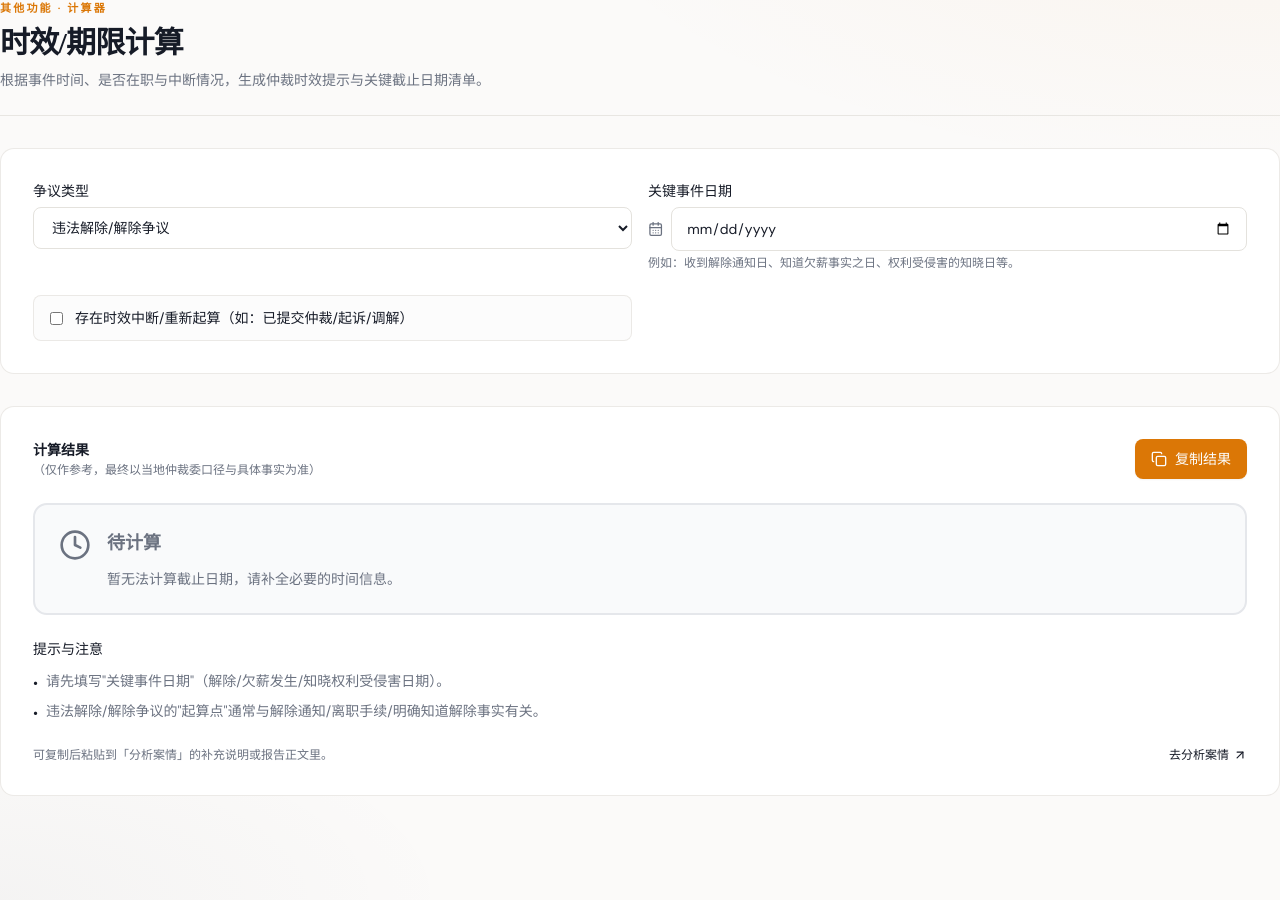
Test: LimitationCalculator › handles interruption date correctly
Type "2024-01-01" into the date field at (959, 229), box [671,207,1247,251]
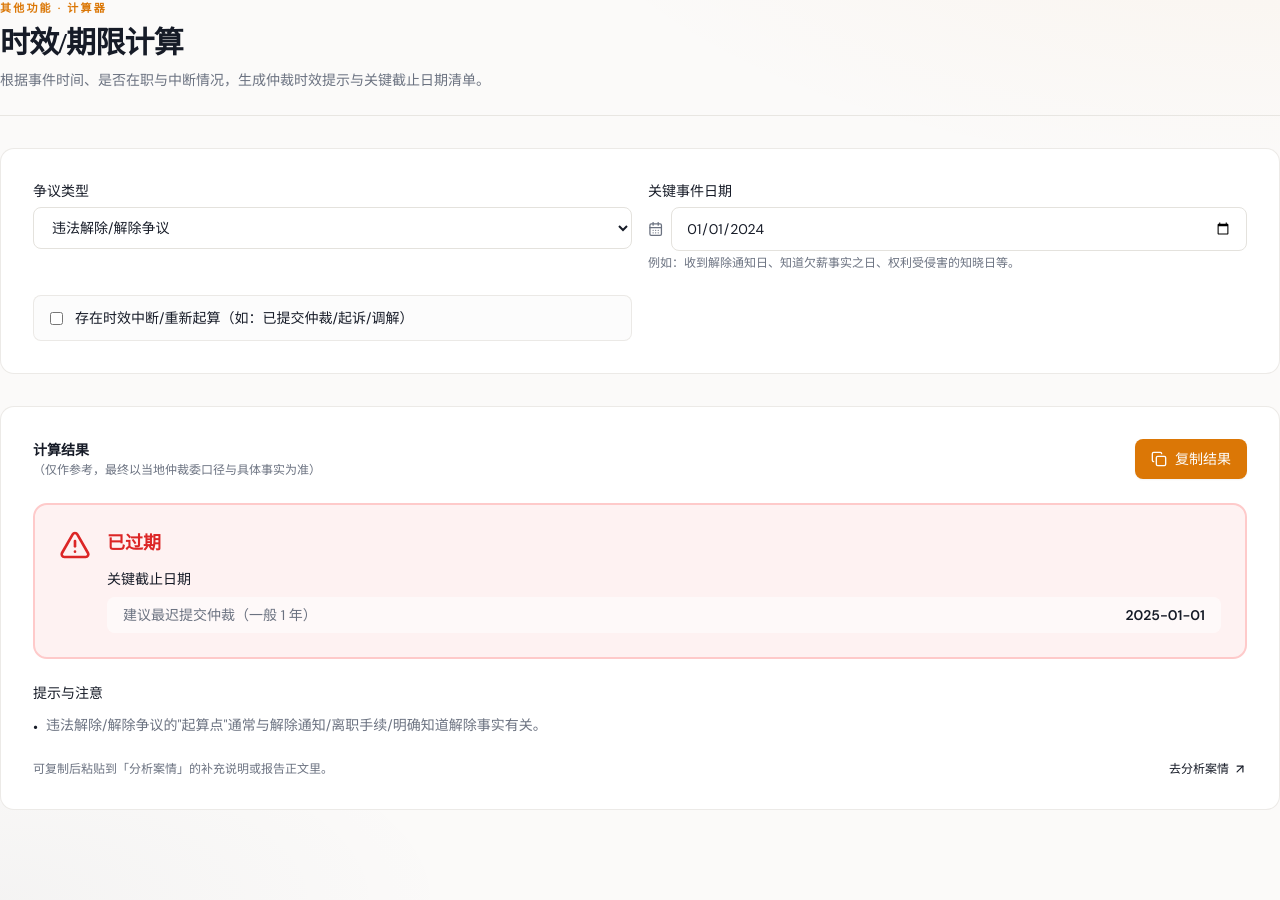
Click the checkbox labelled "存在时效中断/重新起算（如：已提交仲裁/起诉/调解）" at (56, 318), box [50,312,63,325]
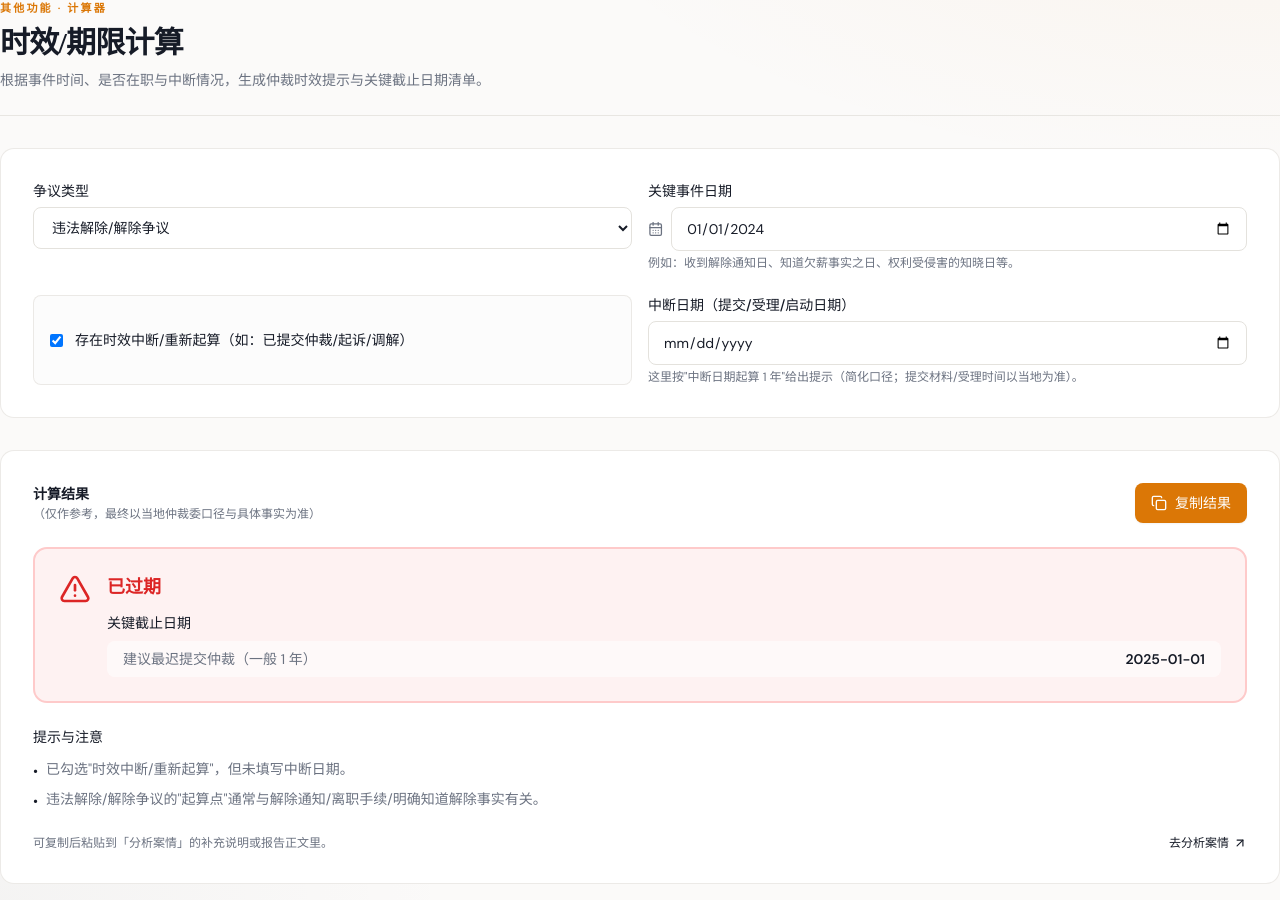
Type "2024-06-01" into the date field below "中断日期（提交/受理/启动日期）" at (948, 343), box [648,321,1247,365]
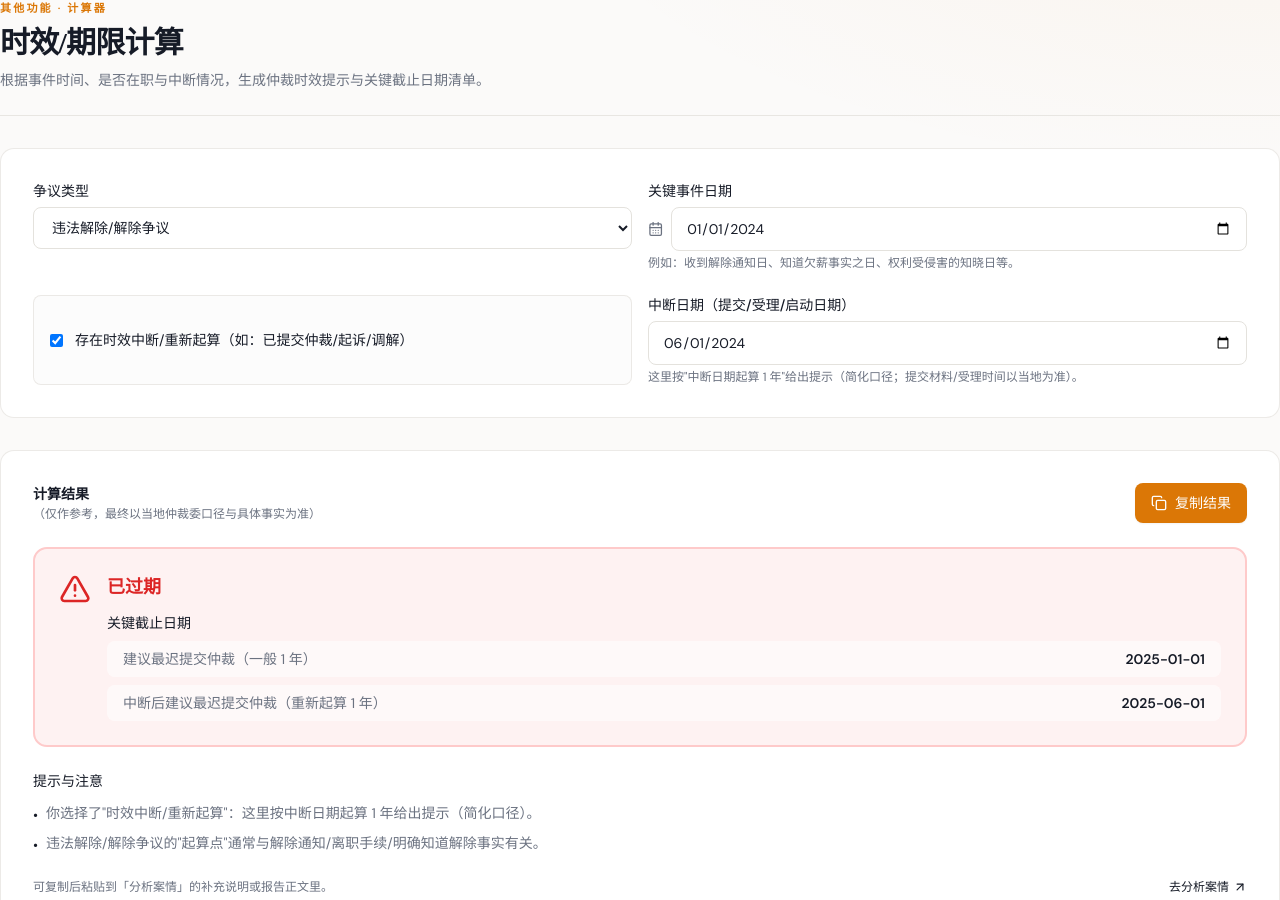
Now the text "2025-06-01" is shown, box [1122,693,1205,713]
